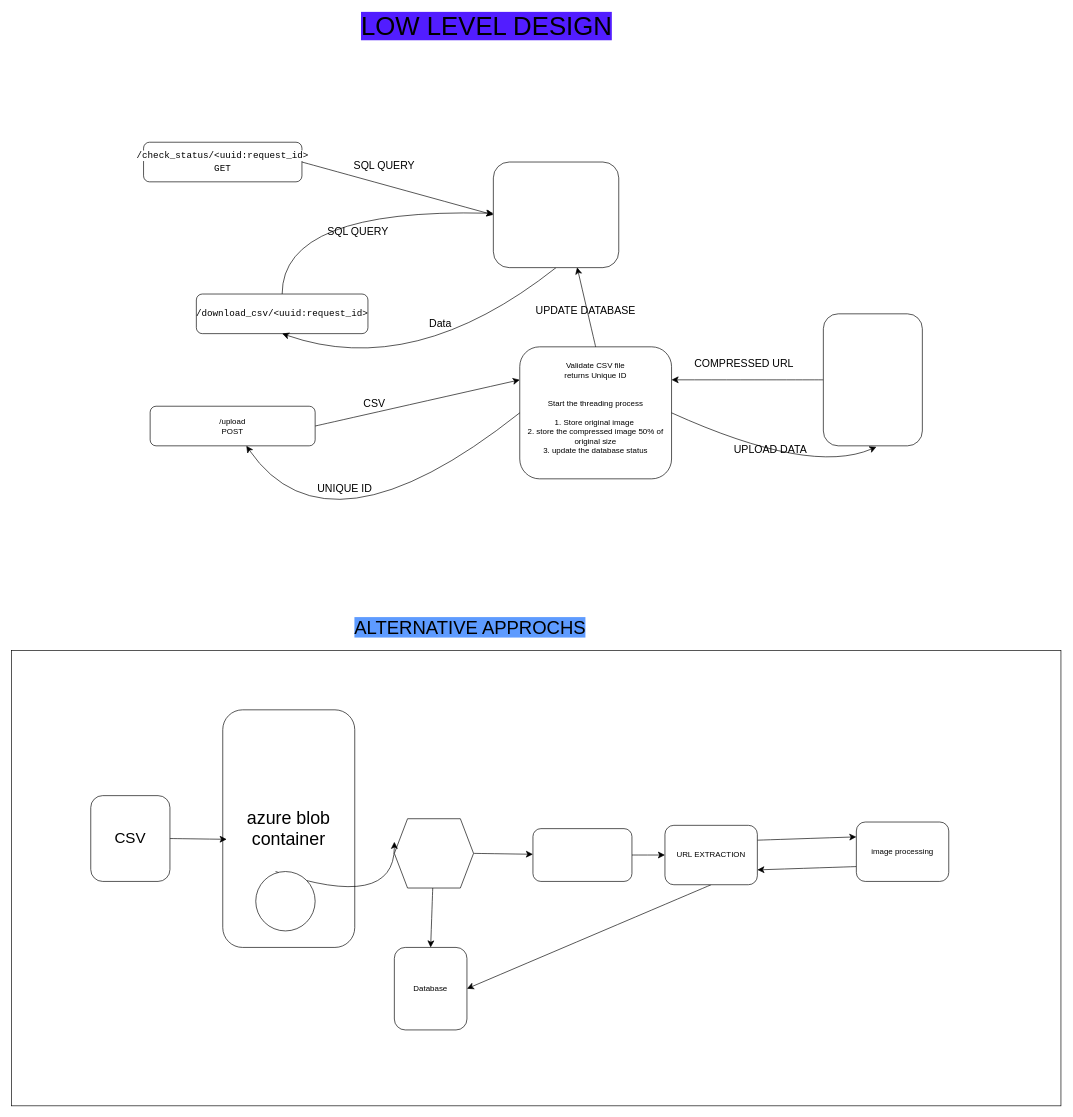
Some shapes in this 1073 by 1117 pixel diagram are drawn without their labels. Each missing label, with the centre of its shape:
App funtion CSV Processing: point 434,853
AZURE BLOB container names compressedimages originalimages: point 872,379
Azure Queue storage: point 582,854
event trigger: point 285,901
PgAdmin TABLE - requests TABLE - image: point 556,214
